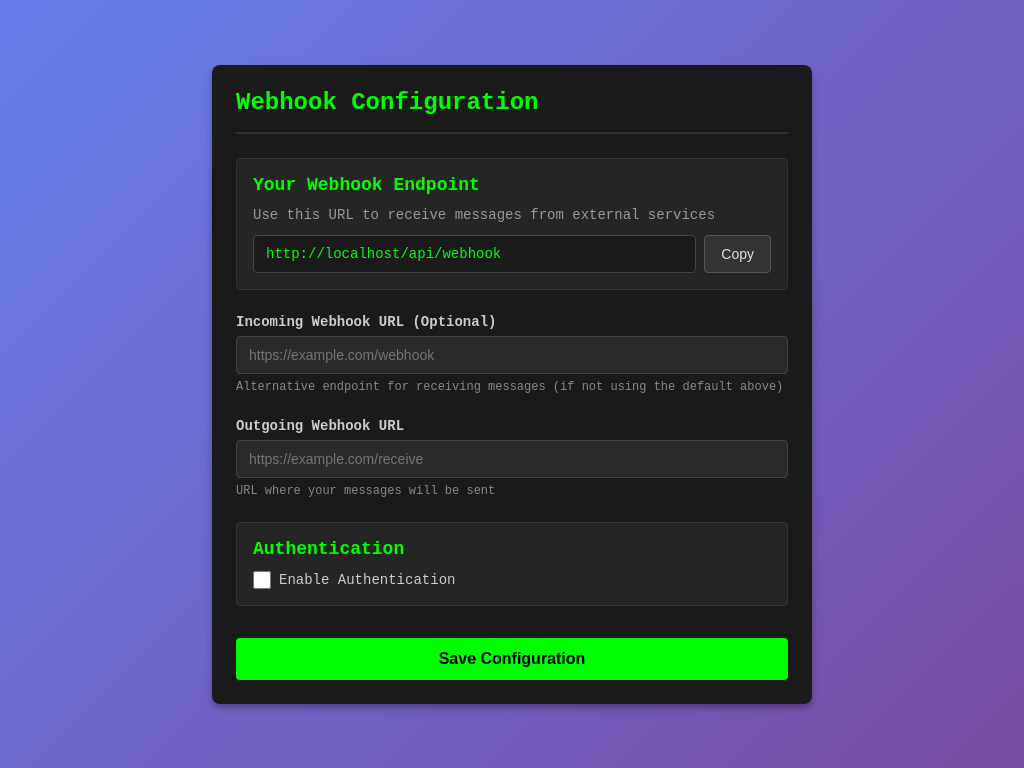
it: WebhookConfig › should validate URL format on blur
Enter invalid URL
Type "not-a-url" into the field labelled "Outgoing Webhook URL" at (512, 458), box [236,440,788,478]
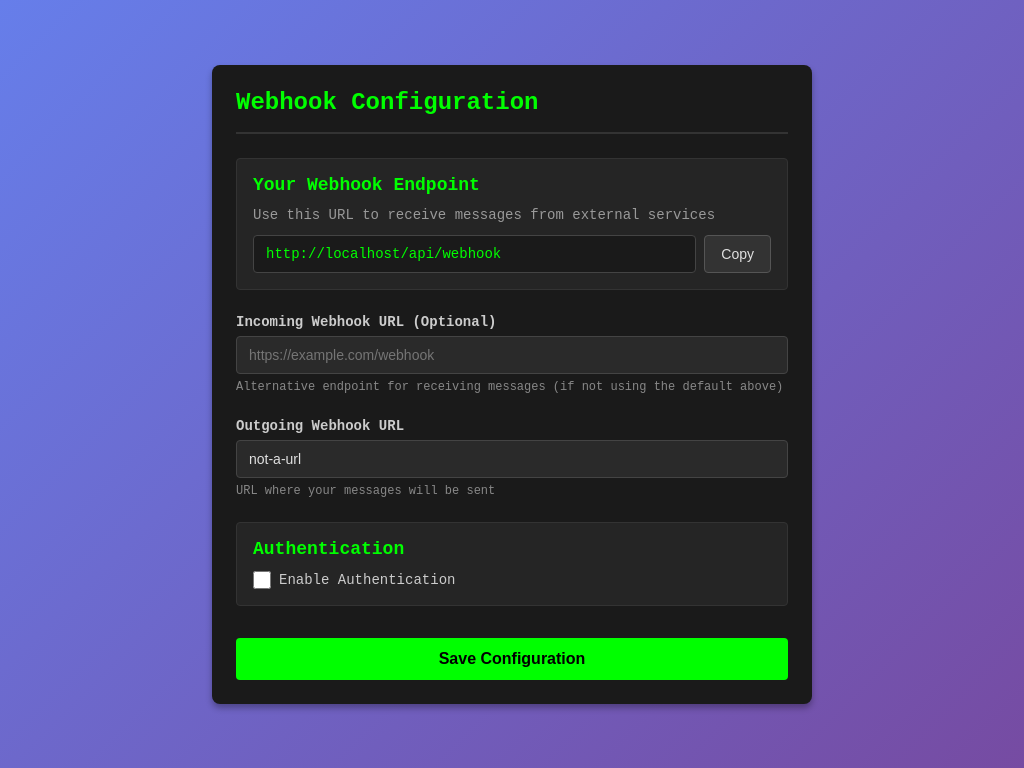
Leave the field labelled "Outgoing Webhook URL", box [236,440,788,478]
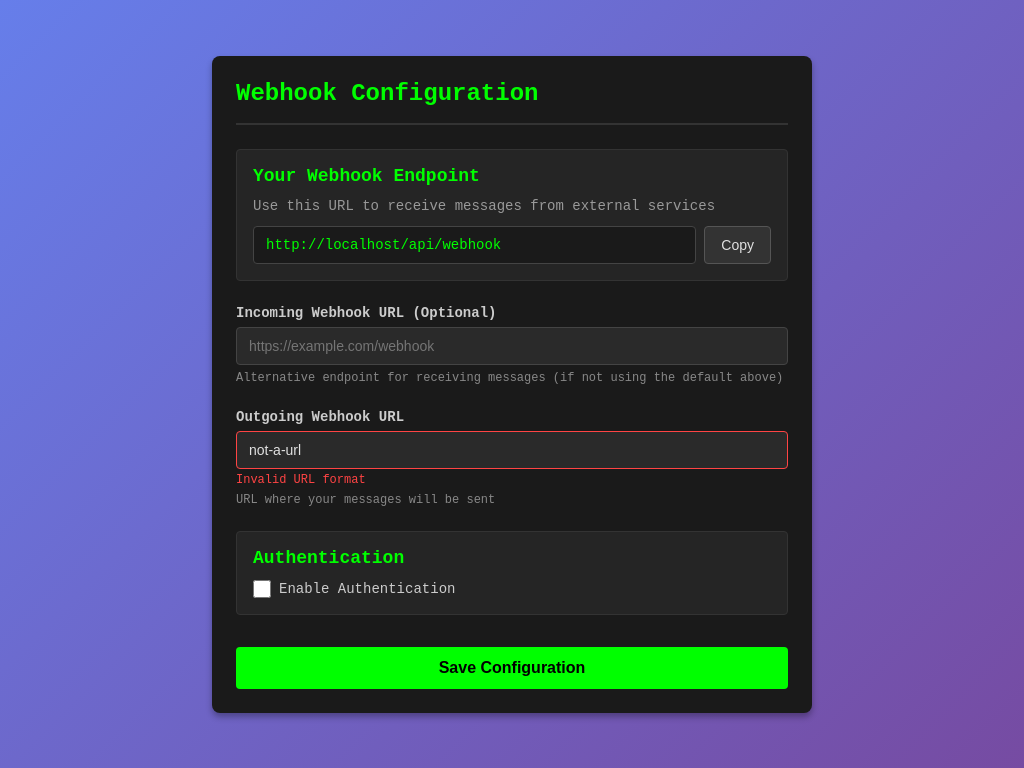
Now the text "Invalid URL format" is shown, box [236,472,366,486]
